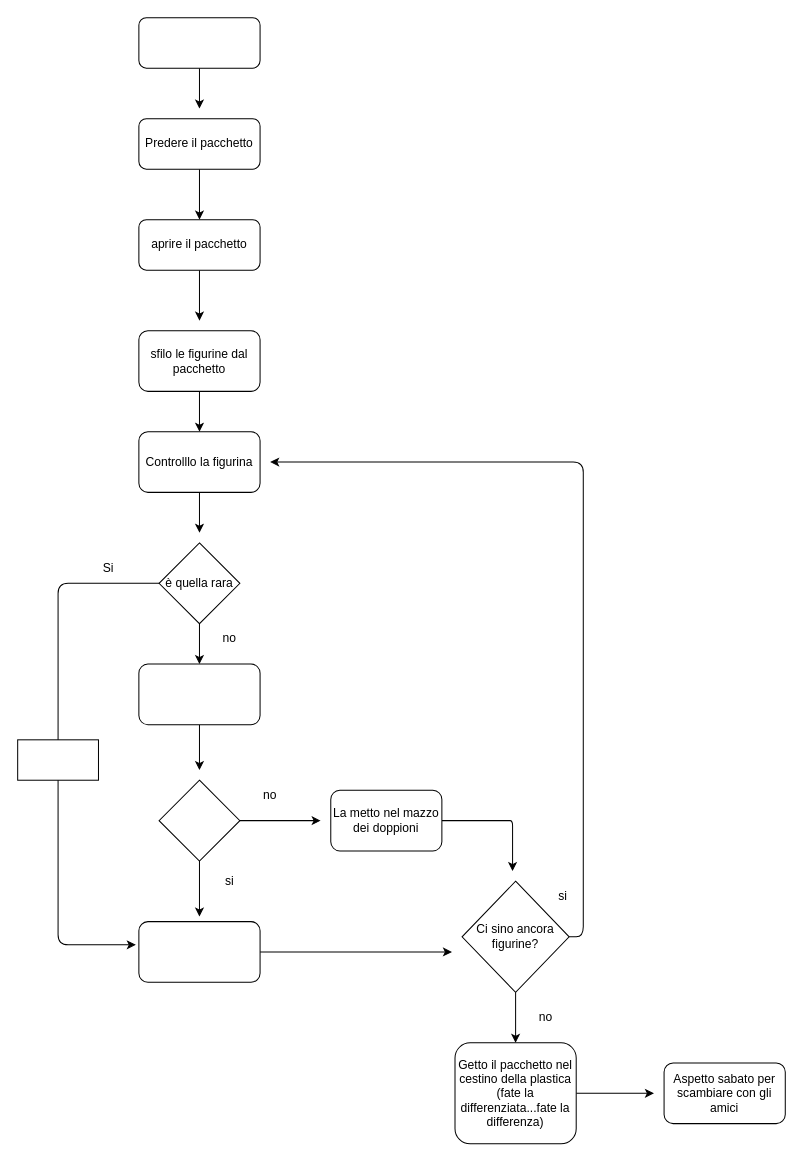
The diagram is 803 pixels wide and 1162 high, and some of its shapes have lost their labels. The centre of each missing label's shape, as x and y in pixels:
aggiungo la figurina all'album: point (199, 951)
Aprite un pacchetto di figurine: point (199, 42)
controllo l'album: point (199, 694)
WOW: point (57, 759)
è nuova?: point (199, 820)
